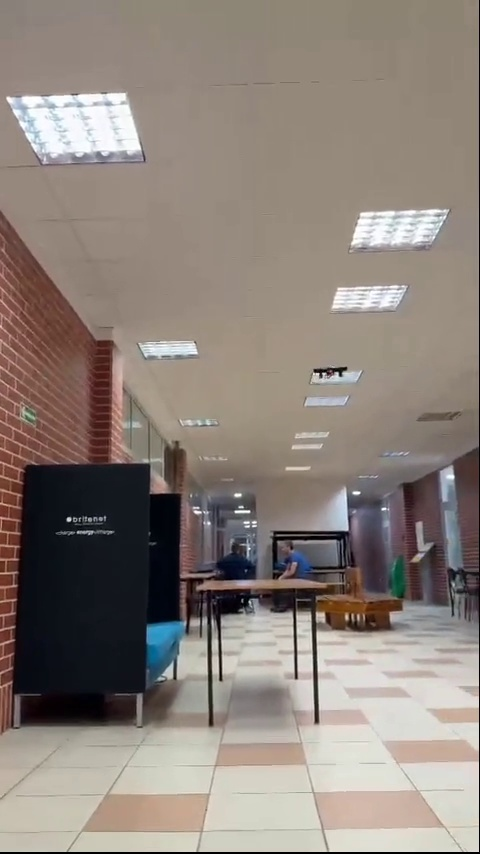drone: (314, 360, 346, 383)
no vest: (271, 535, 310, 578), (224, 535, 251, 580)
